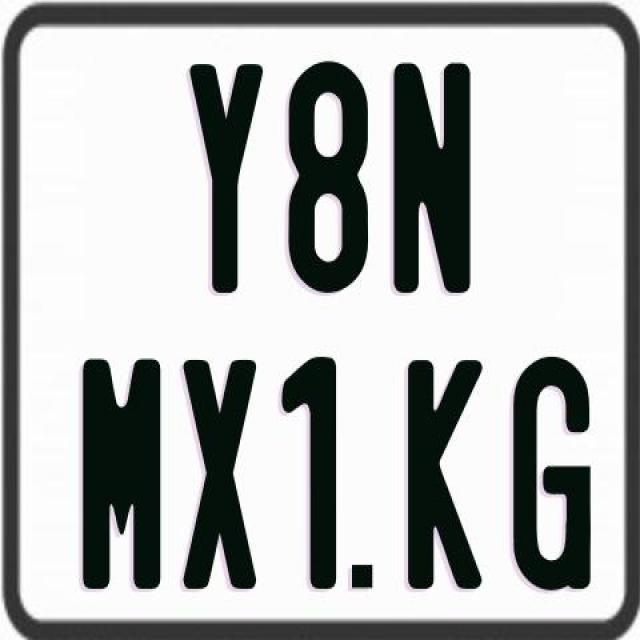1: (281, 356, 339, 588)
8: (286, 56, 366, 291)
G: (509, 352, 591, 595)
K: (408, 358, 483, 588)
M: (81, 357, 163, 589)
N: (391, 63, 468, 294)
X: (182, 356, 262, 594)
Y: (189, 63, 263, 294)
